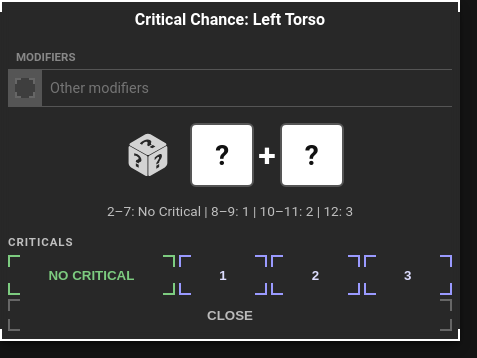
MekCriticalChanceDialogComponent › offers direct tabletop results and replaces them with the rolled result
Click the button with class "bt-button" showing "2".
click(315, 275)  # box 271,255 -> 360,295
Wait 500 ms
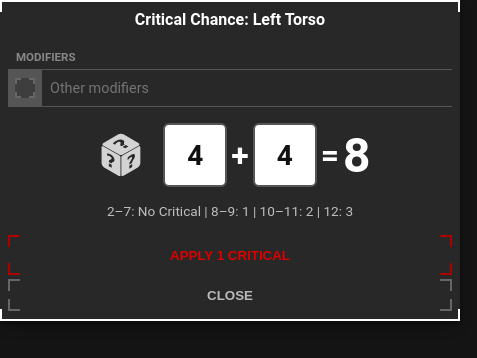
Expected: the button with class "critical-result-action" reads "APPLY 1 CRITICAL", 8,235 -> 452,275
